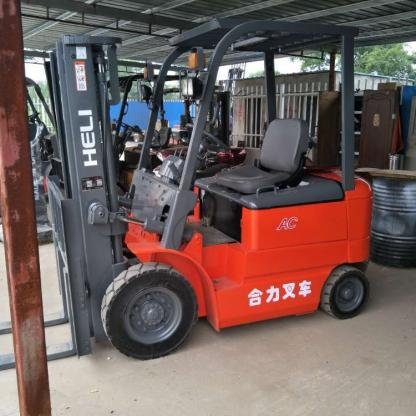forklift: (44, 16, 371, 361)
